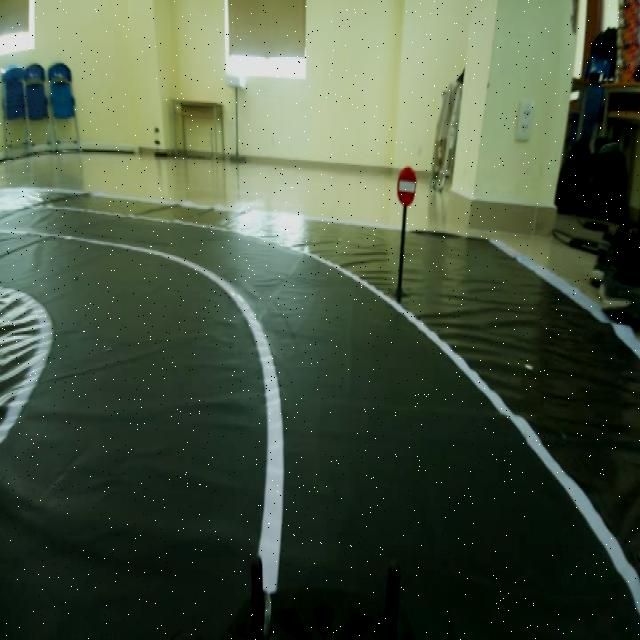no_entry: (394, 158, 418, 204)
